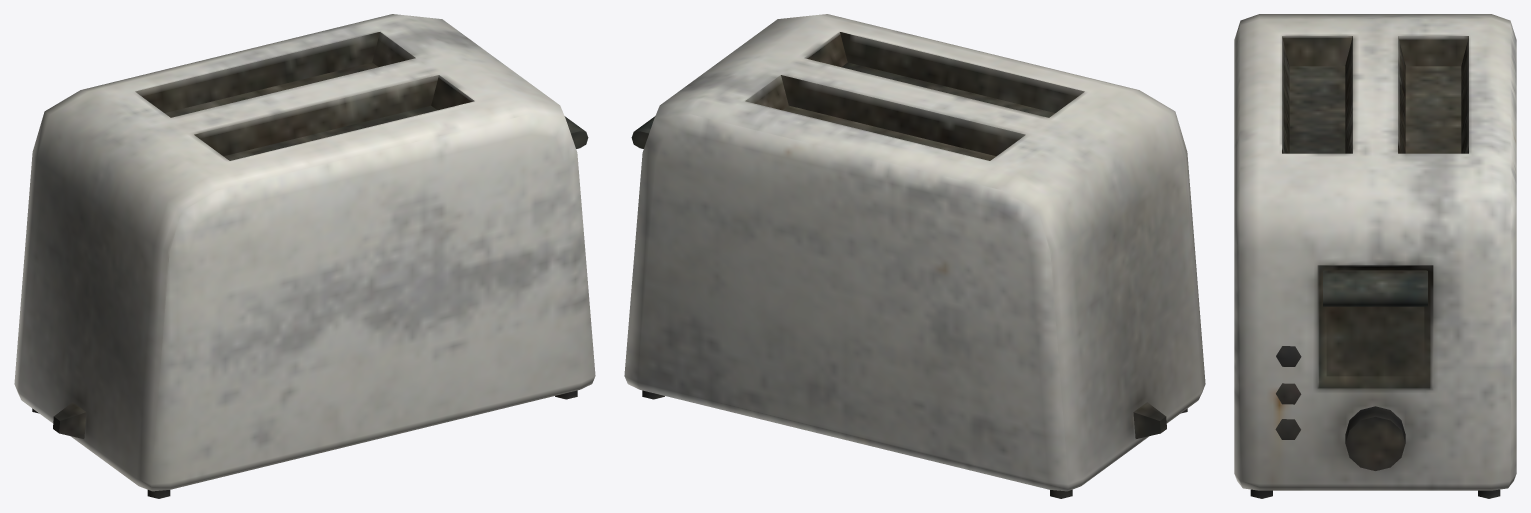
Rendered from Toaster.FBX.
3 renders of one model, left to right at view 1: azimuth 30°, elevation 25°; view 2: azimuth 150°, elevation 25°; view 3: azimuth 270°, elevation 25°, orthographic.
Parts seen in each view (by area): view 1: Toaster; view 2: Toaster; view 3: Toaster.
Boxes of the visible parts, x1=… form: Toaster: x1=14, y1=14, x2=595, y2=498; Toaster: x1=624, y1=14, x2=1205, y2=498; Toaster: x1=1234, y1=14, x2=1516, y2=498.
Bounding box in the file's own units: 37.38 × 21.55 × 18.36.
